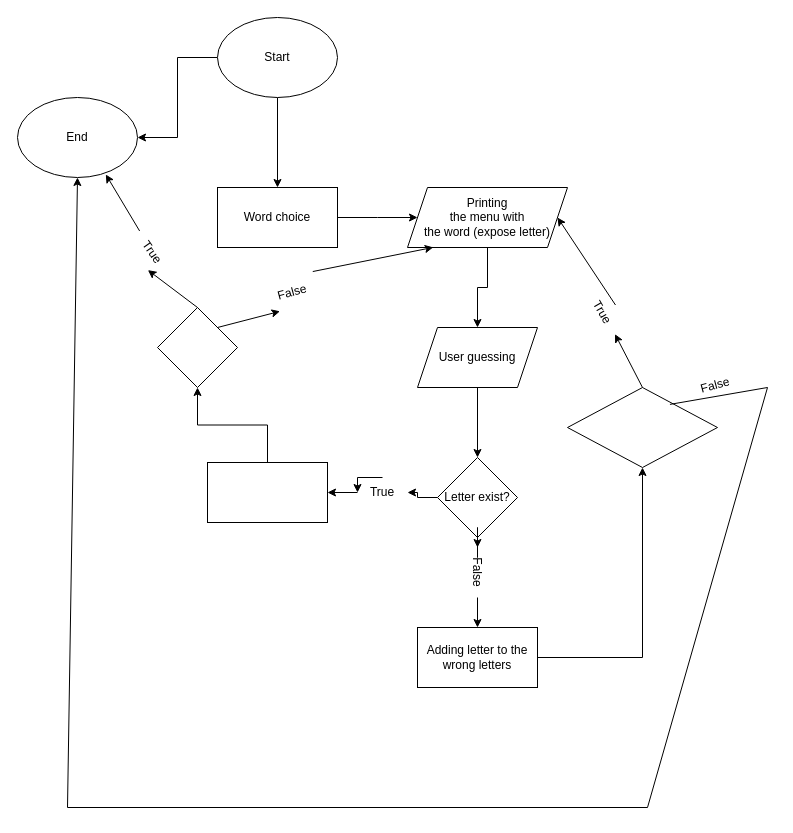
Some shapes in this 793 by 833 pixel diagram are drawn without their labels. The centre of each missing label's shape, as x and y in pixels:
Adding letter to the word (expose): [267,492]
Any guessing left?: [642,427]
Word complete?: [197,347]
